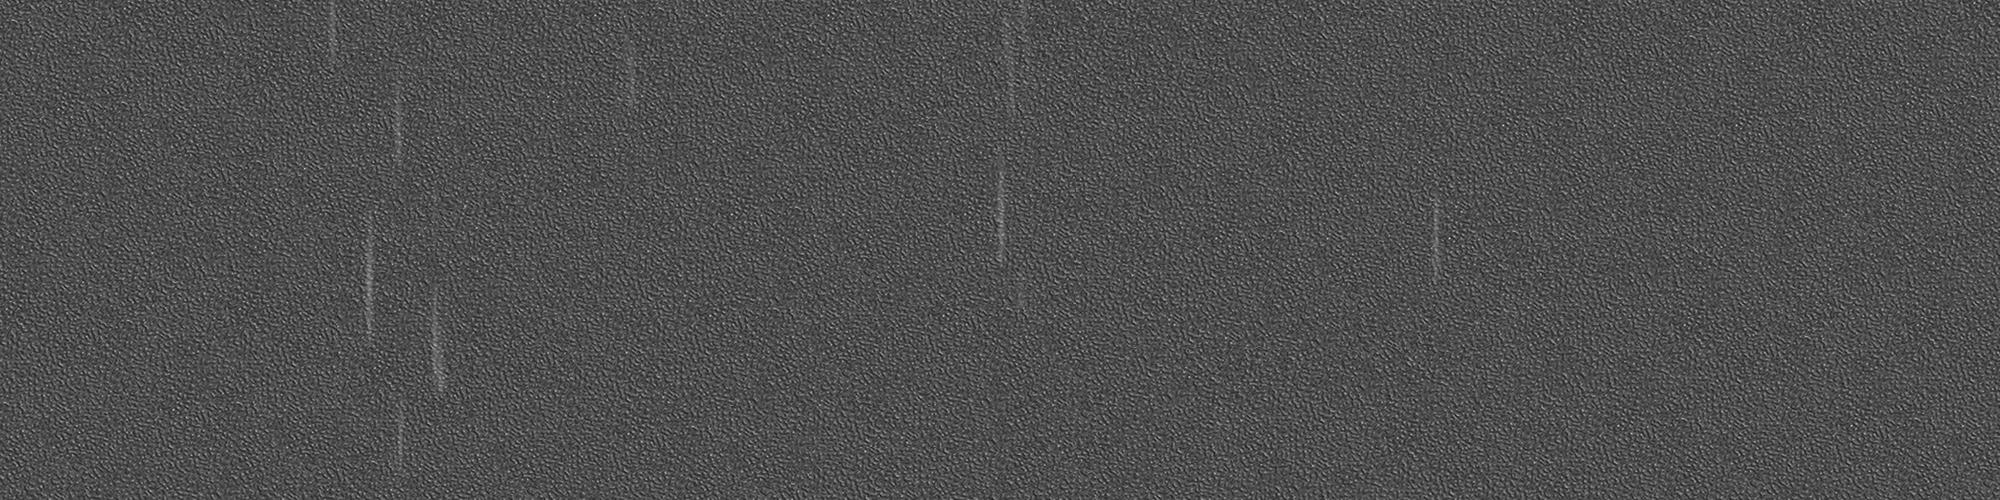Streaks: (991, 3, 1038, 120), (423, 277, 458, 401), (983, 156, 1017, 277), (358, 200, 386, 338), (386, 59, 415, 175), (1421, 187, 1454, 284), (381, 395, 415, 491), (614, 34, 645, 108), (320, 3, 348, 57)
